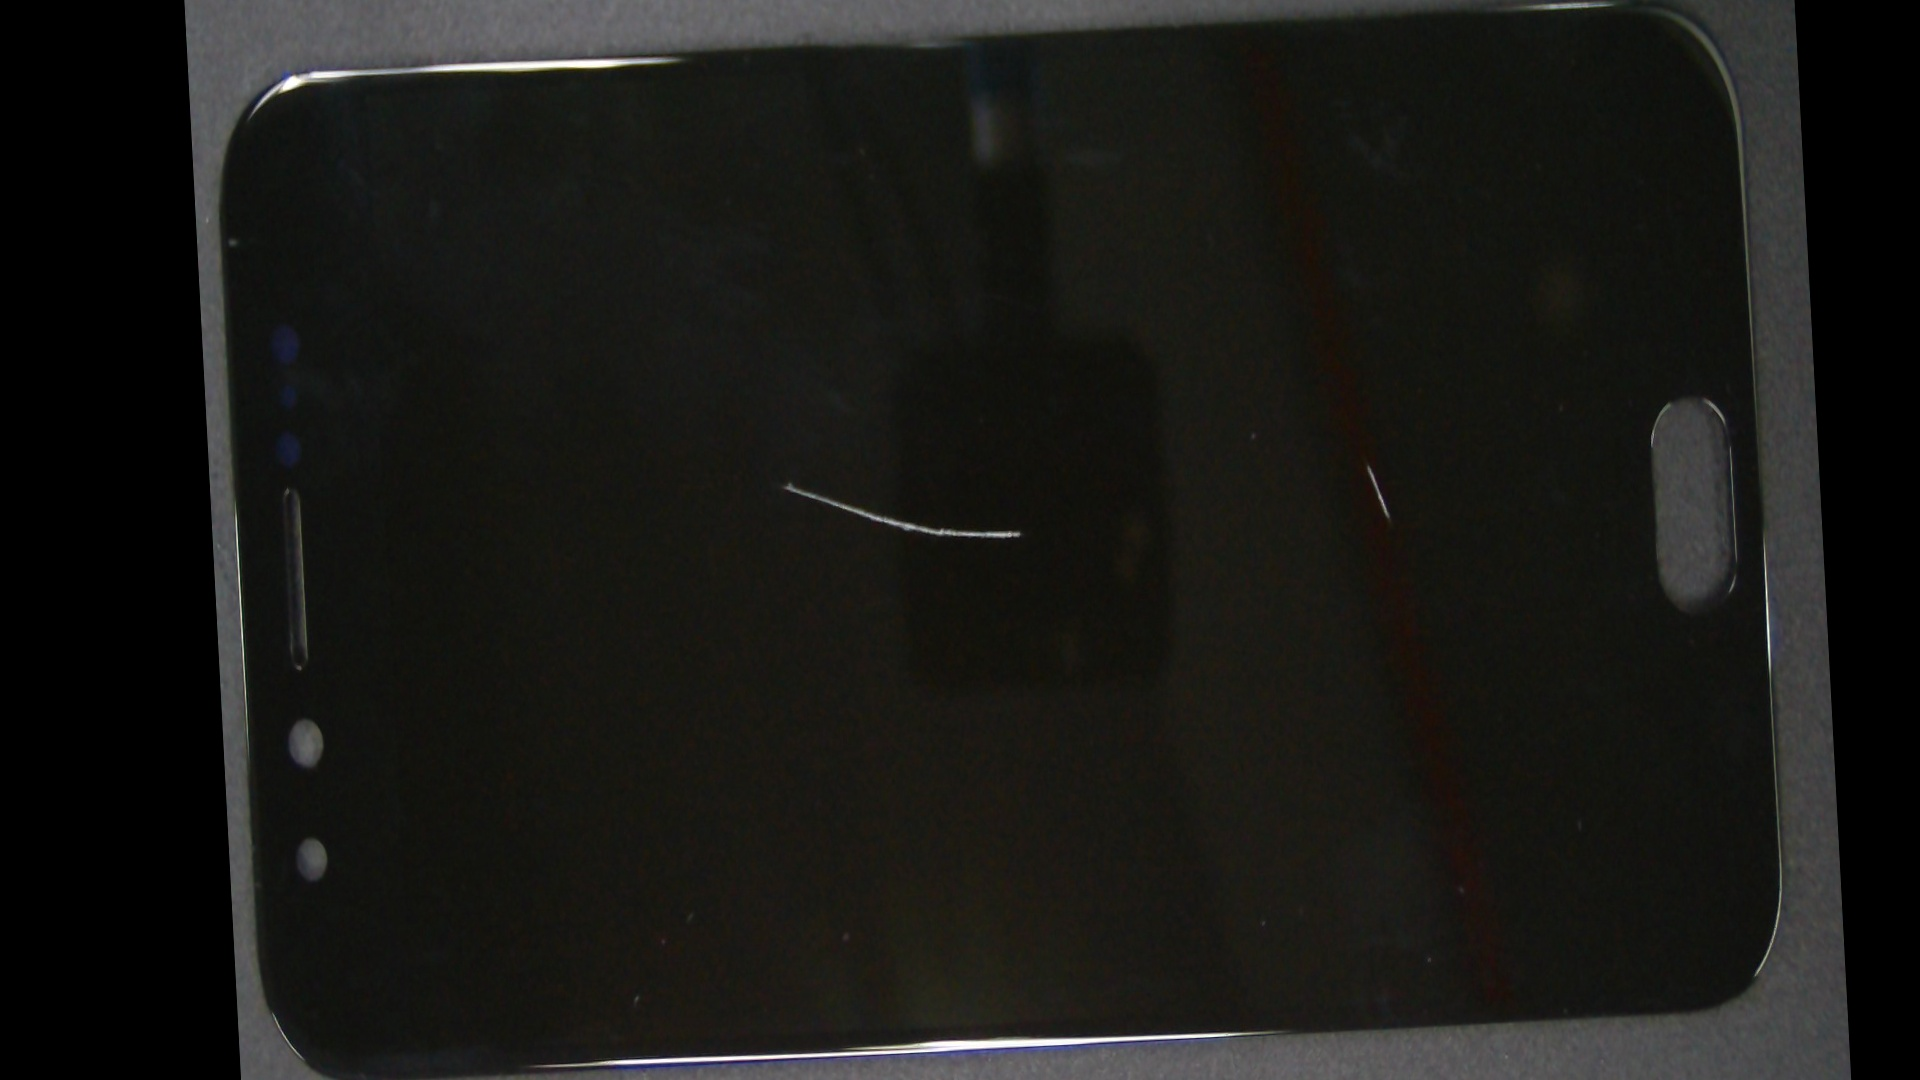oil: (777, 164, 1832, 769), (485, 198, 1089, 767)
